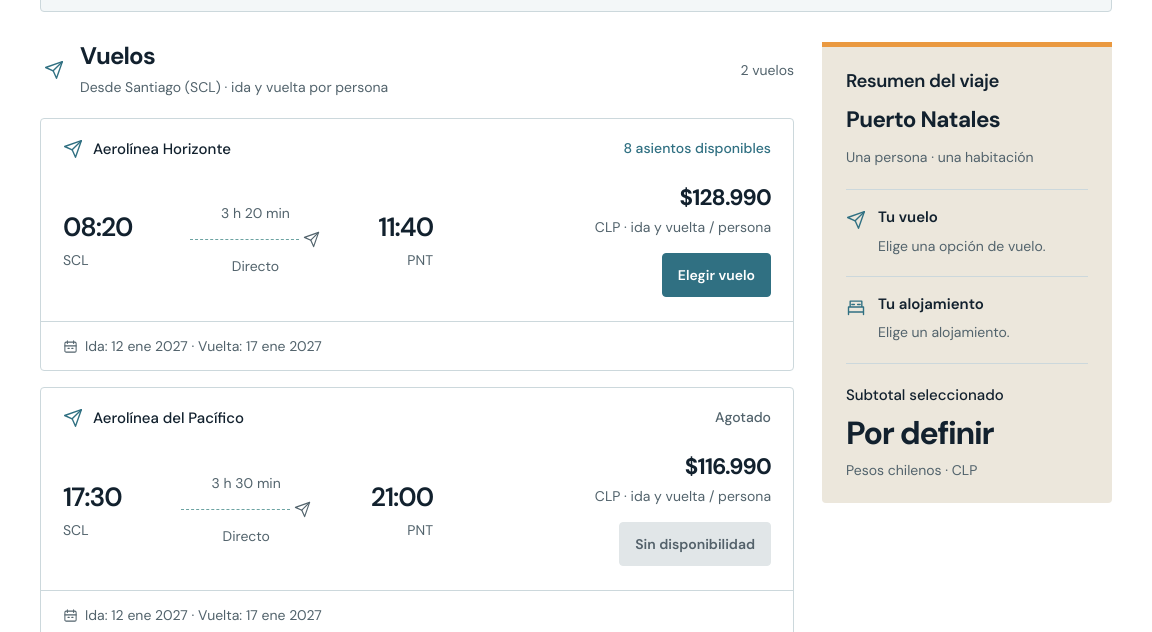
Scenario: Navegación, selección y recuperación › calcula una estimación coherente y reinicia al cambiar de fecha
The width and height of the screenshot is (1152, 632).
(page scrolled)
Click the button "Elegir vuelo" at [716, 275], box [662,253,771,297]
(page scrolled)
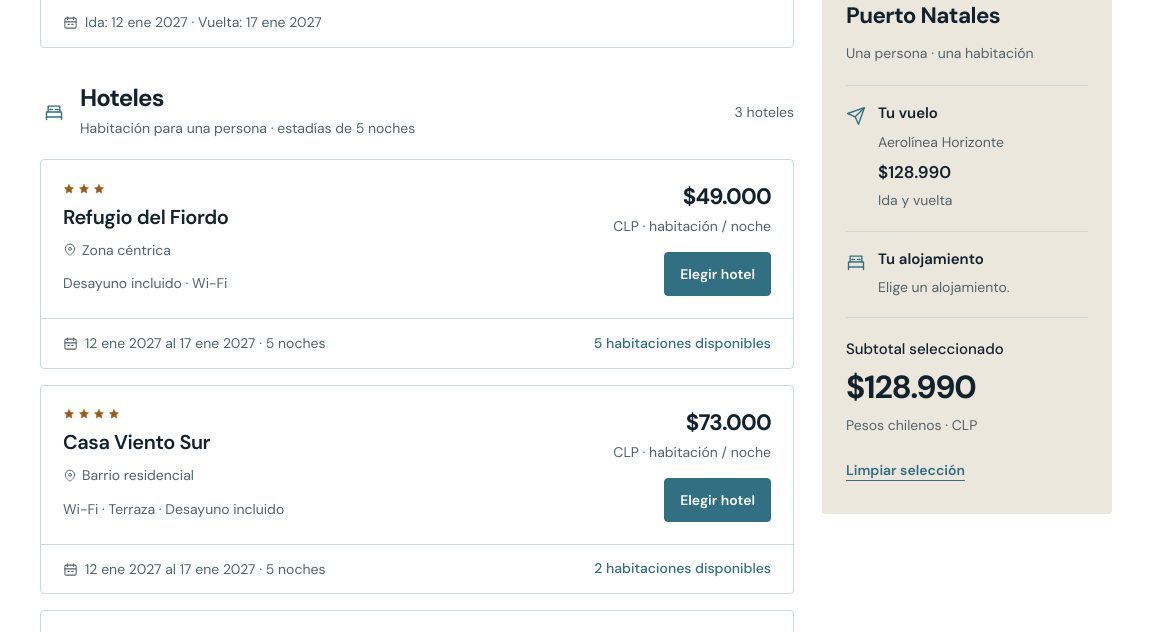
Click the button "Elegir hotel" below "$49.000" at [718, 274], box [664,252,771,296]
(page scrolled)
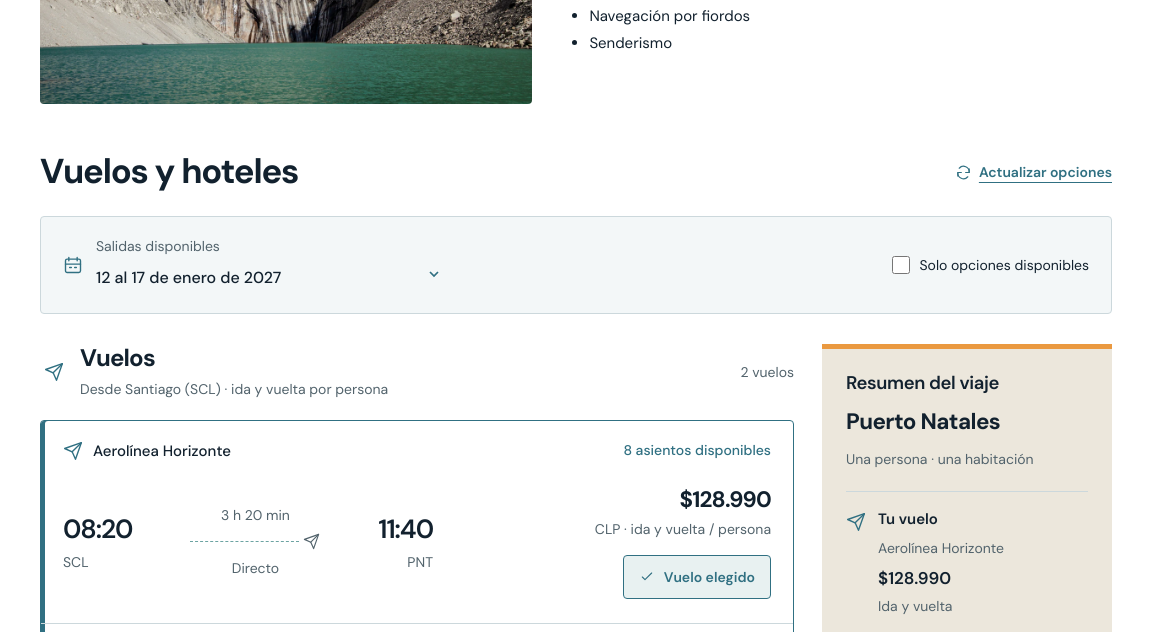
Select "19 al 24 de enero de 2027" in the dropdown labelled "Salidas disponibles" at [269, 274], box [96,255,442,293]
(page scrolled)
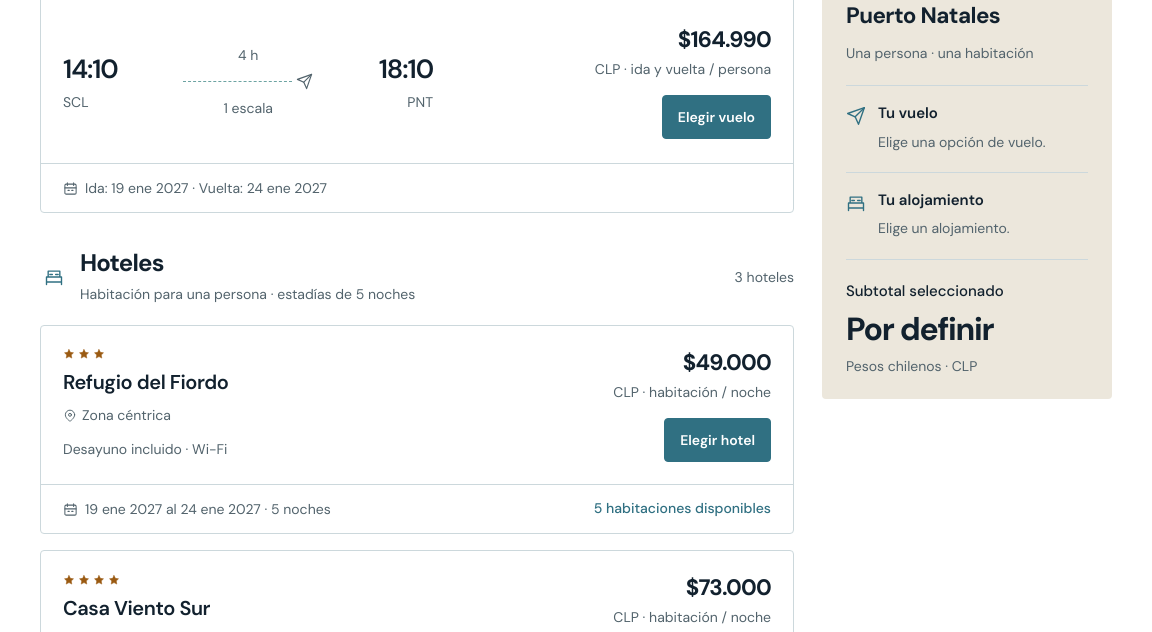
Expected: the text "Por definir" is shown, [846,308,993,350]
Expected: the button "Vuelo elegido" is gone
